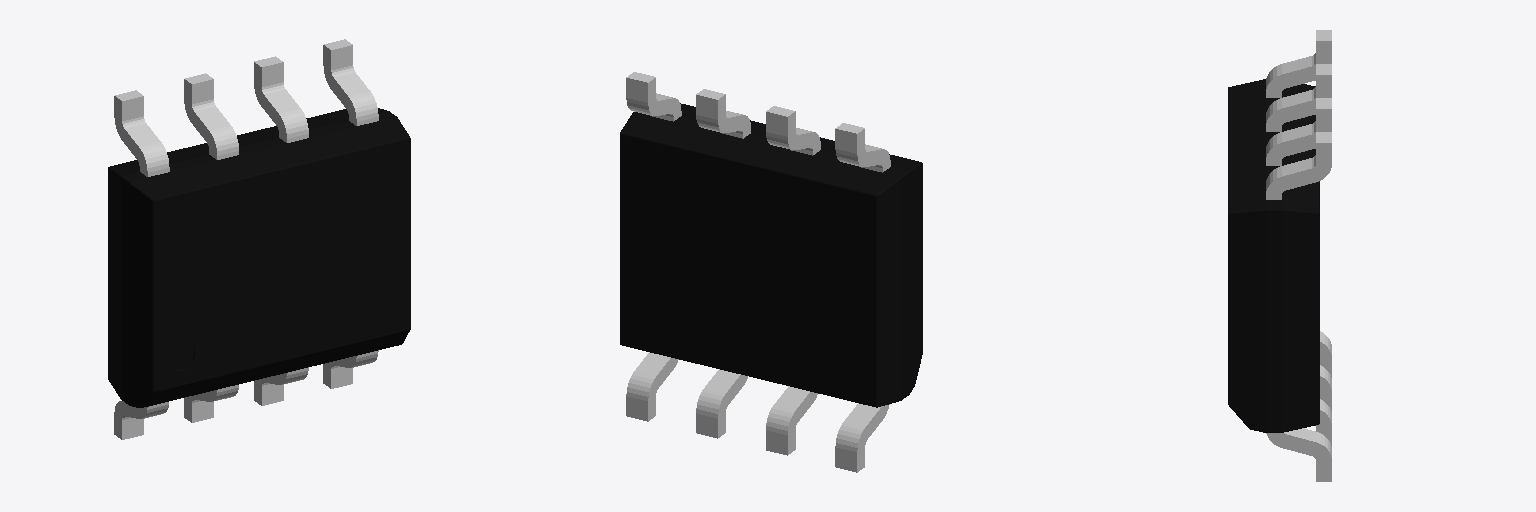
Rendered from ACS712.obj.
3 views of the same model, side by side, from view 1: azimuth 30°, elevation 25°; view 2: azimuth 150°, elevation 25°; view 3: azimuth 270°, elevation 25° (orthographic).
Visible parts, largest first — view 1: Solid1, Solid1:7, Solid1:6, Solid1:8, Solid1:5, Solid1:4, Solid1:2, Solid1:1, Solid1:3; view 2: Solid1, Solid1:4, Solid1:3, Solid1:2, Solid1:1, Solid1:8, Solid1:6, Solid1:7, Solid1:5; view 3: Solid1, Solid1:6, Solid1:5, Solid1:7, Solid1:8, Solid1:2.
Part boxes in pixels (x1,y1,x2,y2): Solid1: (108,108,410,407); Solid1:7: (254,56,308,142); Solid1:6: (323,39,378,125); Solid1:8: (114,90,169,176); Solid1:5: (184,73,238,159); Solid1:4: (114,401,168,439); Solid1:2: (323,350,378,388); Solid1:1: (254,367,308,405); Solid1:3: (184,385,238,422); Solid1: (620,103,922,407); Solid1:4: (835,403,889,472); Solid1:3: (766,386,817,455); Solid1:2: (626,352,678,421); Solid1:1: (696,369,747,438); Solid1:8: (835,123,890,172); Solid1:6: (626,72,681,121); Solid1:7: (696,89,750,138); Solid1:5: (766,106,820,155); Solid1: (1228,79,1319,432); Solid1:6: (1266,132,1331,199); Solid1:5: (1266,64,1331,131); Solid1:7: (1266,98,1331,165); Solid1:8: (1266,30,1331,97); Solid1:2: (1266,428,1331,481).
Size of the model in its own units: 4.9 by 5.9 by 1.65.